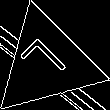L_SE: (18, 35, 75, 92)
